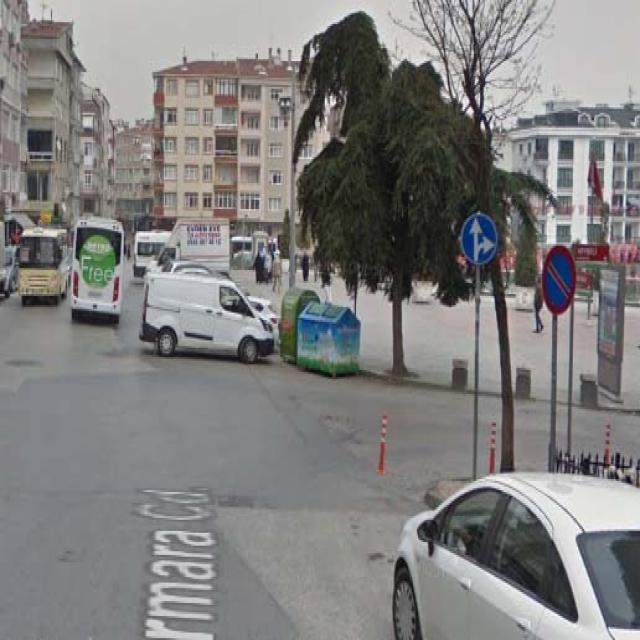ilerisag: (462, 212, 498, 264)
parkyasak: (542, 246, 577, 316)
